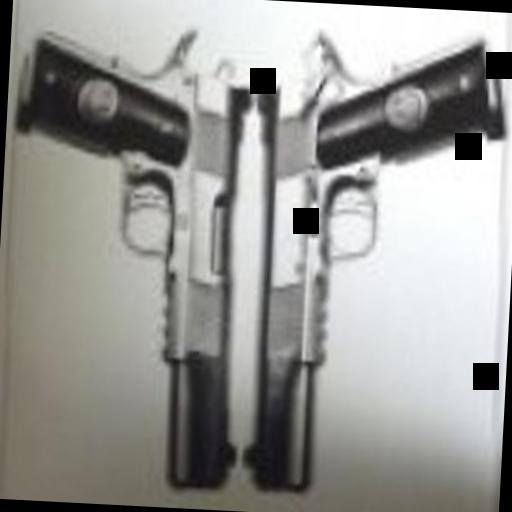Handgun: (0, 0, 261, 488), (242, 12, 498, 500)
